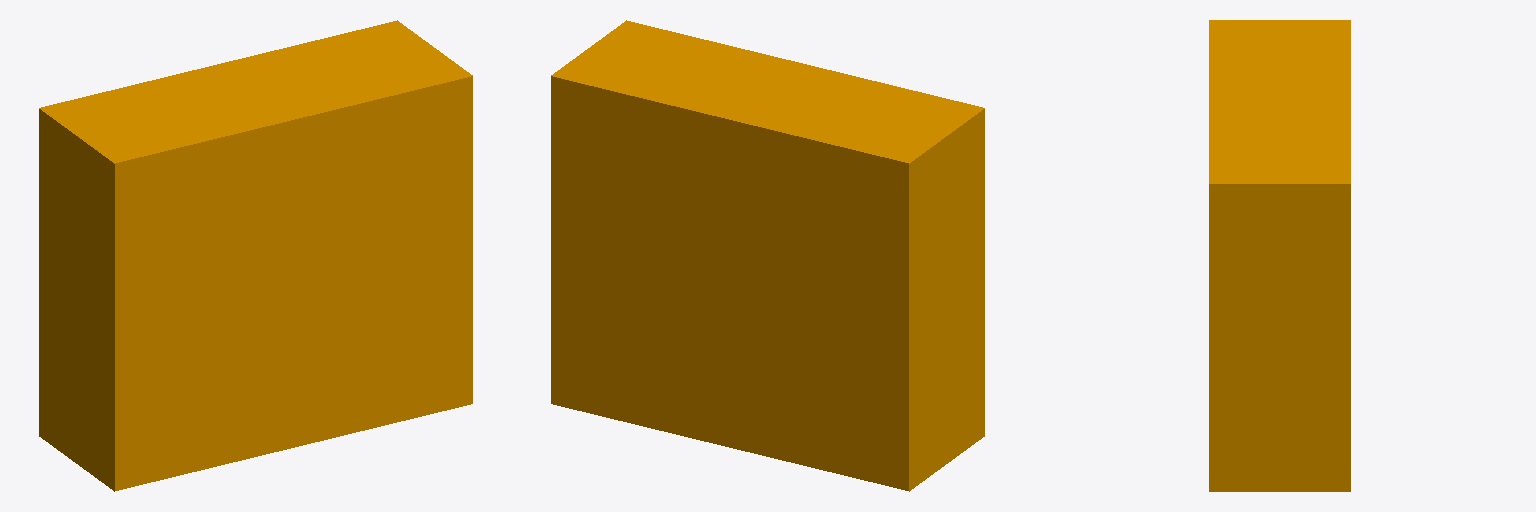
robot.urdf — dvd:
<?xml version="1.0"?>
<robot name="dvd">
    <link name="dvd_base_link">
        <contact>
            <lateral_friction value="1.0"/>
            <spinning_friction value="0.01"/>
            <rolling_friction value="0.01"/>
            <contact_cfm value="0.0"/>
            <contact_erp value="1.0"/>
        </contact>
        <inertial>
            <origin rpy="0 0 0" xyz="0 0 0"/>
            <mass value="0.551"/>
            <inertia ixx="1" ixy="0" ixz="0" iyy="1" iyz="0" izz="1"/>
        </inertial>
        <visual>
            <origin rpy="1.5708 0 1.5708" xyz="0 0 0"/>
            <geometry>
                <mesh filename="cuboid/visual/dvd.obj" scale="1.0 1.0 1.0"/>
            </geometry>
        </visual>
        <collision>
            <origin rpy="1.5708 0 1.5708" xyz="0 0 0"/>
            <geometry>
                <mesh filename="cuboid/collision/dvd.stl" scale="1.0 1.0 1.0"/>
            </geometry>
        </collision>
    </link>
</robot>

--- What the picture shows (computed from the rendered views, not written in the file) ---
The picture shows the robot from 3 angles, left to right: view 1: azimuth 30°, elevation 25°; view 2: azimuth 150°, elevation 25°; view 3: azimuth 270°, elevation 25°; orthographic projection.
Model dvd with 1 links and 0 joints (none), rooted at dvd_base_link, posed every joint at zero.
Links seen in each view (by area): view 1: dvd_base_link; view 2: dvd_base_link; view 3: dvd_base_link.
Link boxes in pixels (<box>): dvd_base_link: <box>39,20,472,491</box>; dvd_base_link: <box>551,20,984,491</box>; dvd_base_link: <box>1209,20,1350,491</box>.
Size in the robot's own frame: 0.142 by 0.052 by 0.124 metres.
1 mesh visuals loaded from 1 distinct referenced files (1 OBJ).